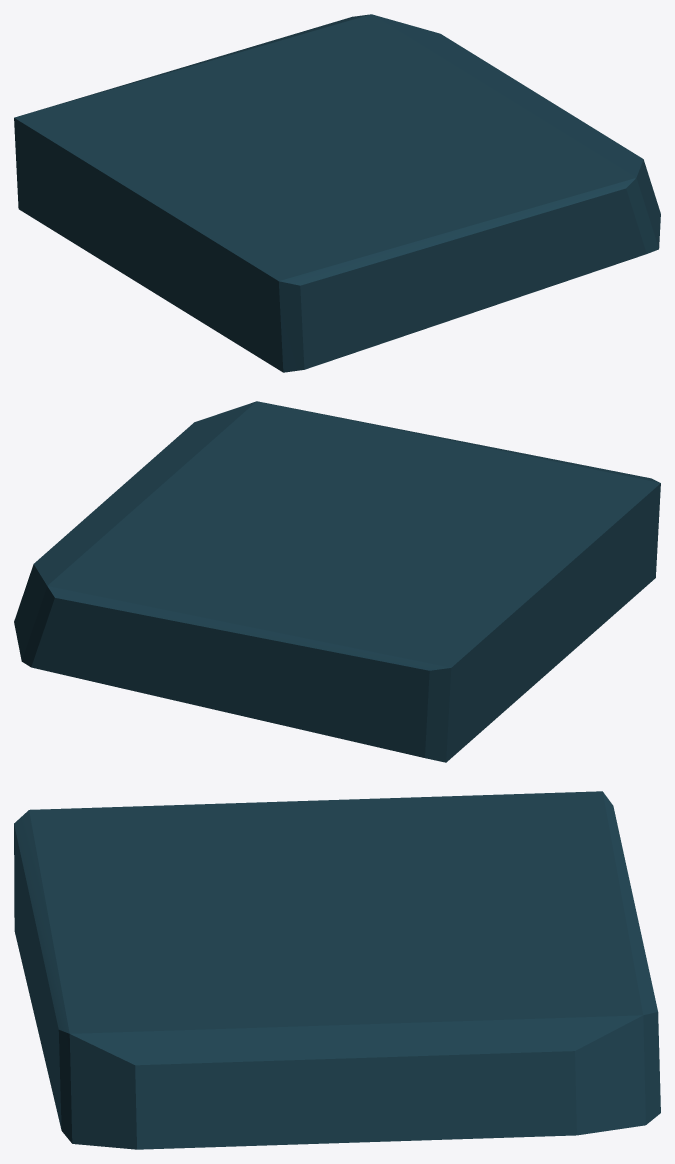
The model's file is CubeBodymain.fbx.
The picture shows the model from 3 angles, top to bottom: view 1: azimuth 30°, elevation 25°; view 2: azimuth 150°, elevation 25°; view 3: azimuth 270°, elevation 25°; orthographic projection. The views are drawn at different scales.
Parts seen in each view (by area): view 1: Cube__2_; view 2: Cube__2_; view 3: Cube__2_.
Part boxes in pixels (x1,y1,x2,y2): Cube__2_: (14,14,660,372); Cube__2_: (14,401,660,762); Cube__2_: (14,791,660,1149).
Size of the model in its own units: 491 by 95.23 by 490.
